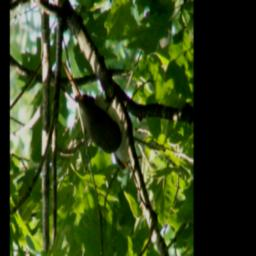Cuckoo: (61, 59, 133, 175)
